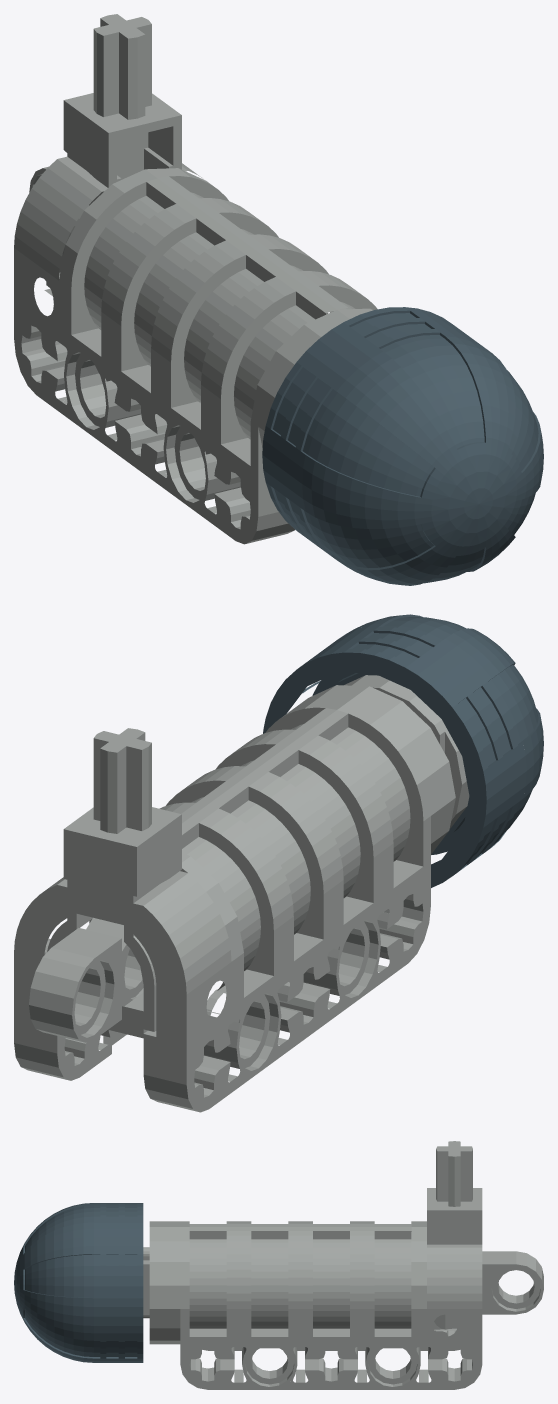
3 renders of one model, top to bottom at view 1: azimuth 30°, elevation 25°; view 2: azimuth 150°, elevation 25°; view 3: azimuth 270°, elevation 25°, orthographic. The views are drawn at different scales.
Parts seen in each view (by area): view 1: world; view 2: world; view 3: world.
Part boxes in pixels (x1=…): world: x1=14, y1=14, x2=543, y2=585; world: x1=14, y1=614, x2=543, y2=1112; world: x1=14, y1=1141, x2=543, y2=1389.
Size of the model in its own units: 0.0208 by 0.0308 by 0.0688.
